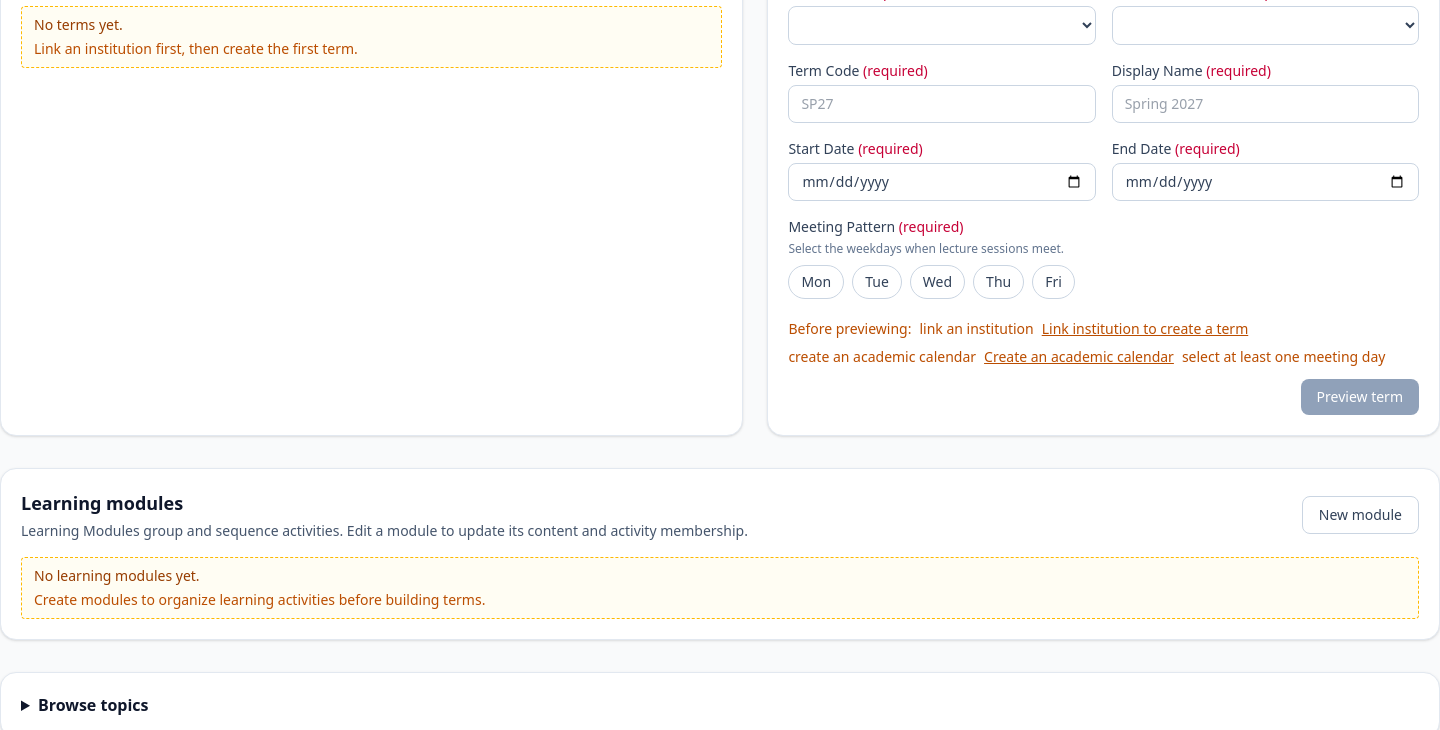
Test case: CourseWorkspacePage › shows prerequisite-led term empty states and opens the missing setup step
(page scrolled)
Click the button "Link institution to create a term": point(1145, 329) left=1042, top=319, right=1248, bottom=339
(page scrolled)
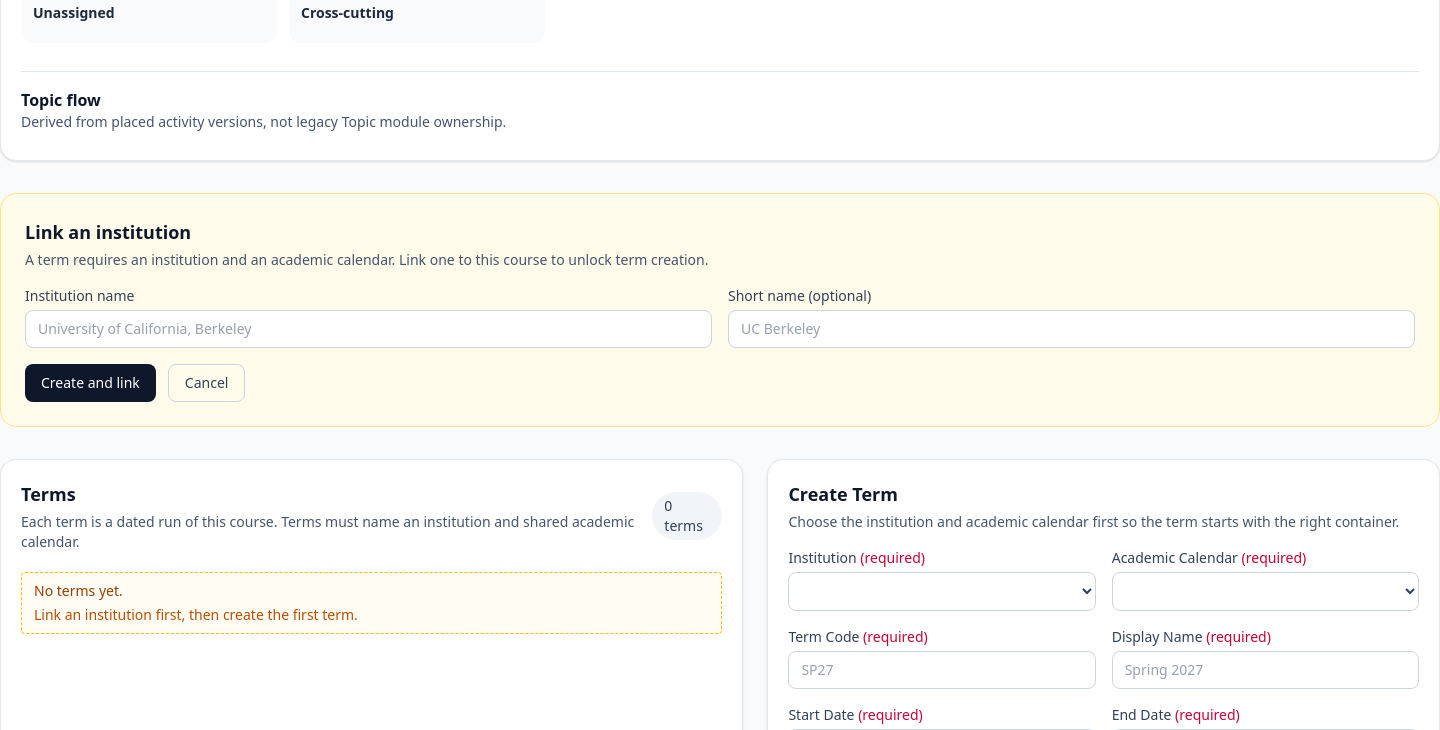
Result: the field labelled "Institution name" is shown at left=25, top=310, right=712, bottom=348
